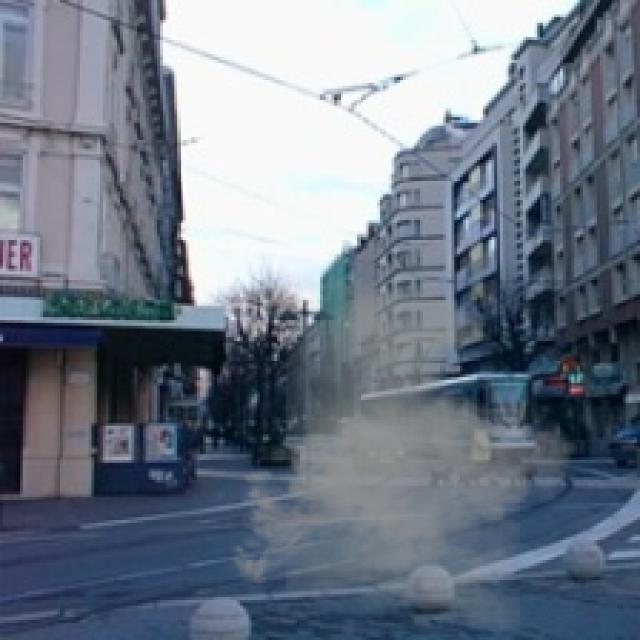Smoke: (220, 274, 586, 632)
